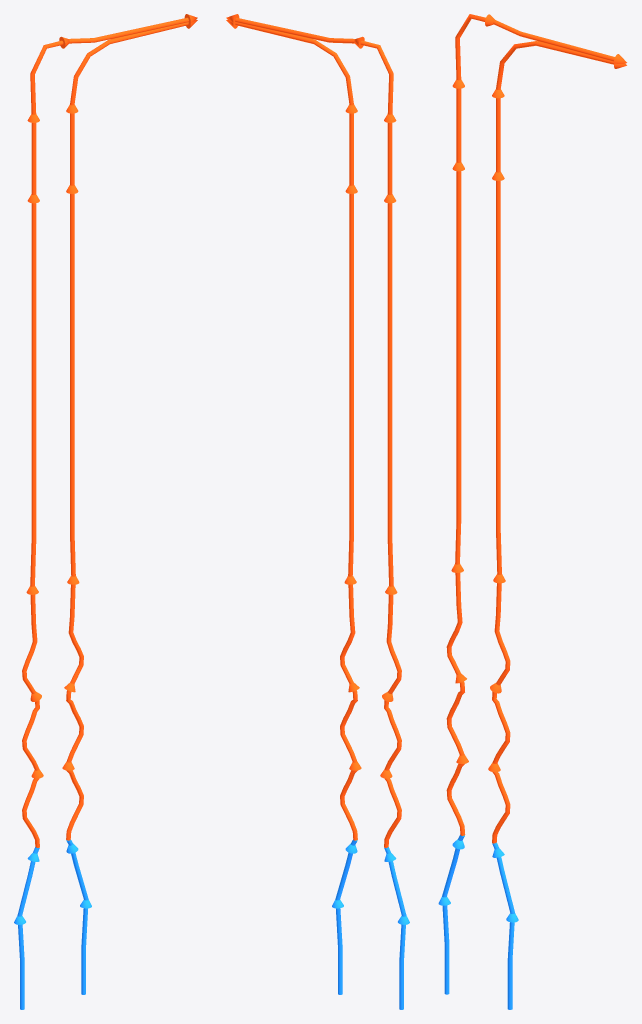
The model's file is vertical_turbine_pump_flow.glb.
3 renders of one model, left to right at view 1: azimuth 30°, elevation 25°; view 2: azimuth 150°, elevation 25°; view 3: azimuth 330°, elevation 25°, orthographic. The views are drawn at different scales.
Visible parts, largest first — view 1: flow_discharge_-1, flow_discharge_+1, flow_suction_-1, flow_suction_+1; view 2: flow_discharge_-1, flow_discharge_+1, flow_suction_-1, flow_suction_+1; view 3: flow_discharge_-1, flow_discharge_+1, flow_suction_+1, flow_suction_-1.
Part boxes in pixels (x1,y1,x2,y2): flow_discharge_-1: [22, 14, 197, 847]; flow_discharge_+1: [62, 17, 197, 840]; flow_suction_-1: [14, 847, 39, 1009]; flow_suction_+1: [66, 839, 91, 994]; flow_discharge_-1: [226, 14, 401, 847]; flow_discharge_+1: [226, 17, 361, 840]; flow_suction_-1: [384, 847, 409, 1009]; flow_suction_+1: [332, 839, 357, 994]; flow_discharge_-1: [446, 14, 626, 835]; flow_discharge_+1: [488, 41, 626, 843]; flow_suction_+1: [492, 842, 518, 1009]; flow_suction_-1: [438, 835, 464, 994].
Bounding box in the file's own units: 0.7154 × 3.59 × 0.0416.
